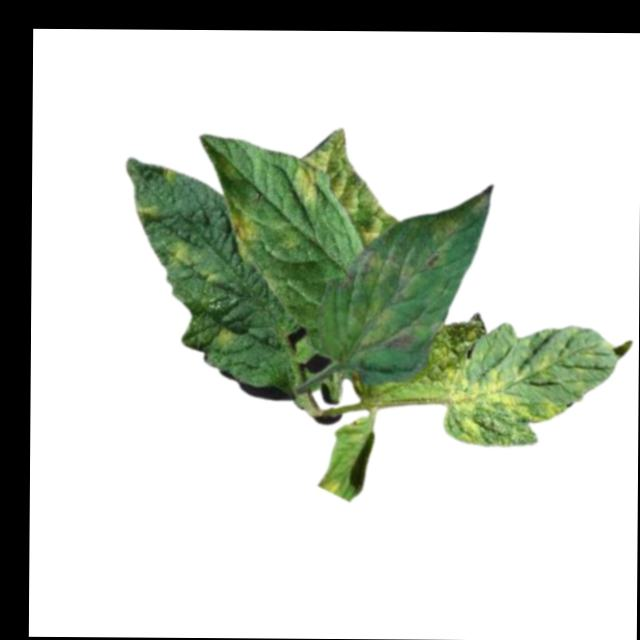Leaf_Mold: (300, 130, 400, 248), (338, 247, 435, 356), (442, 354, 556, 444), (403, 180, 492, 247), (225, 204, 258, 263), (287, 163, 321, 204), (165, 239, 194, 267), (214, 323, 238, 346)
